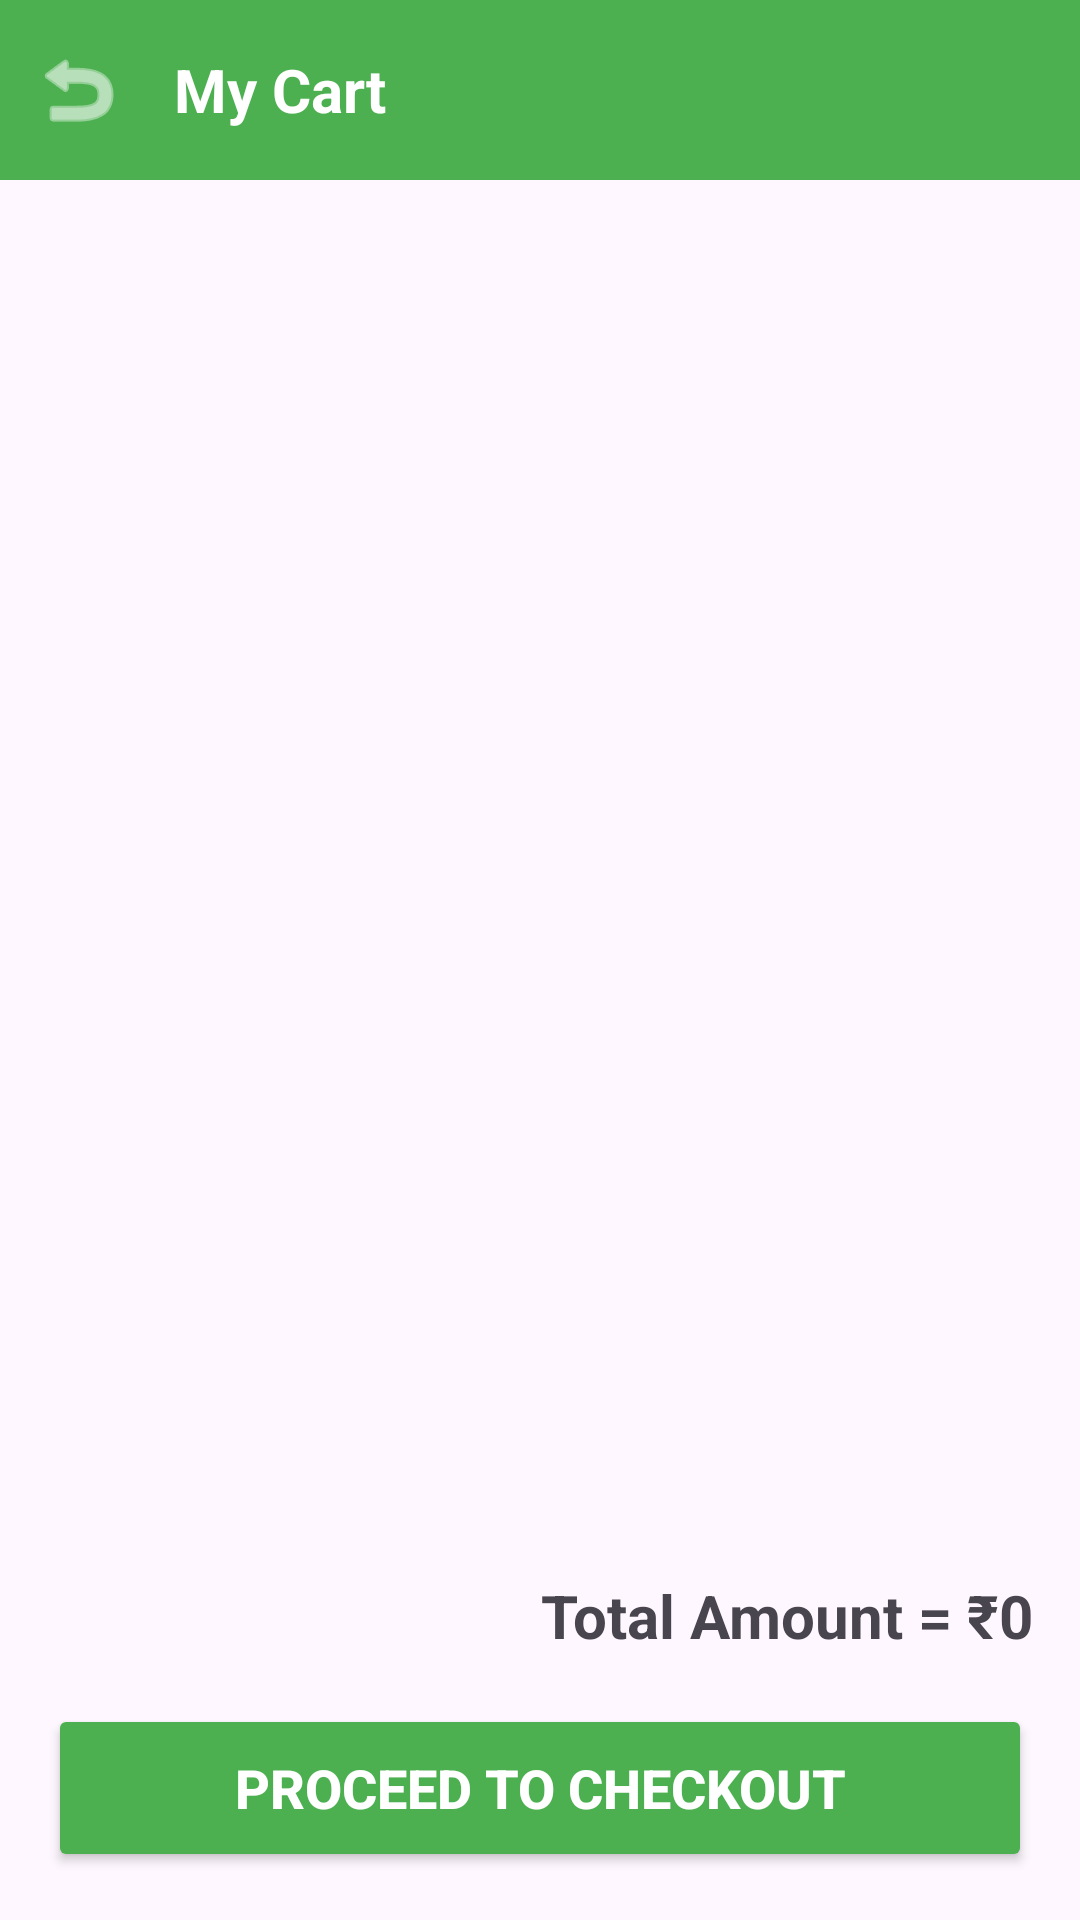

Icons on this 1080×1920 Android screen, each with the point to tap as (x,y):
Back: (79,90)
